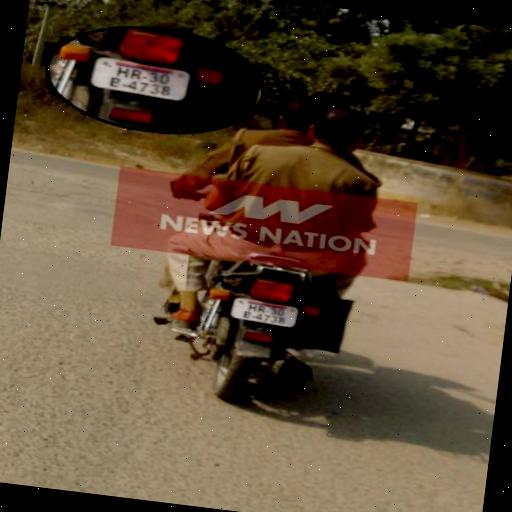no helmet: (171, 80, 390, 229)
number plate: (224, 285, 324, 337)
